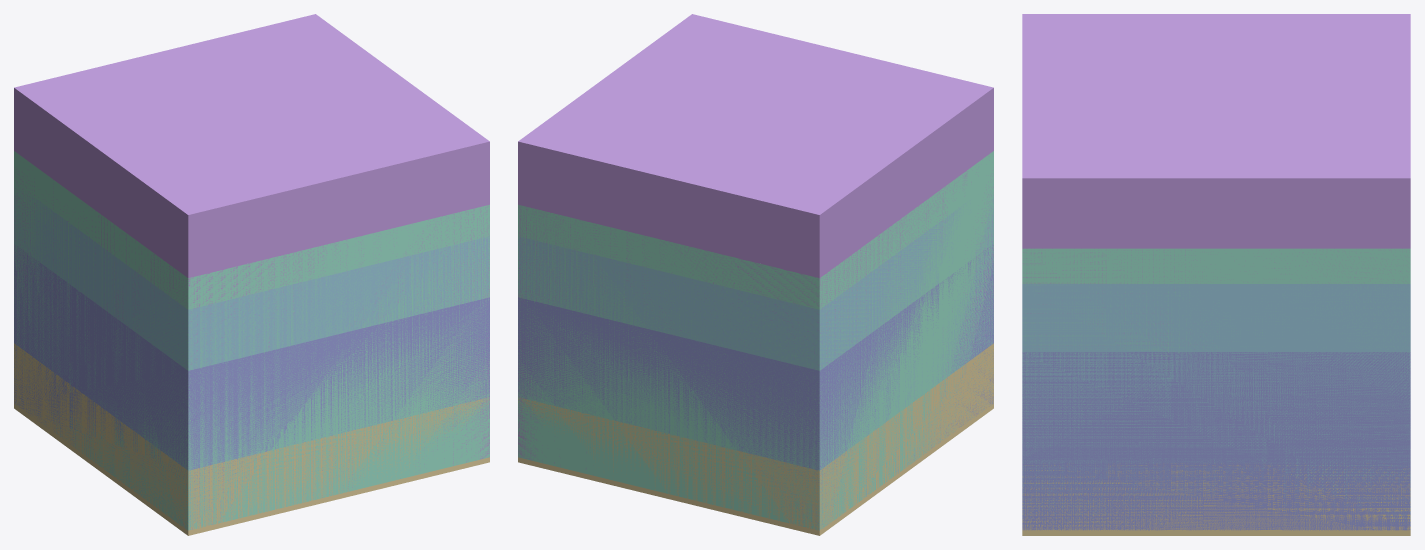
Rendered from hblock.glb.
The picture shows the model from 3 angles, left to right: view 1: azimuth 30°, elevation 25°; view 2: azimuth 150°, elevation 25°; view 3: azimuth 270°, elevation 25°; orthographic projection. The views are drawn at different scales.
Visible parts, largest first — view 1: S5|SM_HESCO_Stage5_01a#0, S4|SM_HESCO_Stage4_01a#0, S2|SM_HESCO_Stage2_01a#0, S3|SM_HESCO_Stage3_01a#0, S1|SM_HESCO_Stage1_01a#0; view 2: S4|SM_HESCO_Stage4_01a#0, S5|SM_HESCO_Stage5_01a#0, S3|SM_HESCO_Stage3_01a#0, S2|SM_HESCO_Stage2_01a#0, S1|SM_HESCO_Stage1_01a#0; view 3: S5|SM_HESCO_Stage5_01a#0, S2|SM_HESCO_Stage2_01a#0, S3|SM_HESCO_Stage3_01a#0, S4|SM_HESCO_Stage4_01a#0, S1|SM_HESCO_Stage1_01a#0.
Boxes of the visible parts, x1=… form: S5|SM_HESCO_Stage5_01a#0: x1=14, y1=14, x2=489, y2=523; S4|SM_HESCO_Stage4_01a#0: x1=14, y1=151, x2=489, y2=530; S2|SM_HESCO_Stage2_01a#0: x1=14, y1=244, x2=489, y2=497; S3|SM_HESCO_Stage3_01a#0: x1=14, y1=184, x2=489, y2=529; S1|SM_HESCO_Stage1_01a#0: x1=14, y1=343, x2=489, y2=535; S4|SM_HESCO_Stage4_01a#0: x1=518, y1=151, x2=993, y2=530; S5|SM_HESCO_Stage5_01a#0: x1=518, y1=14, x2=993, y2=503; S3|SM_HESCO_Stage3_01a#0: x1=518, y1=184, x2=993, y2=529; S2|SM_HESCO_Stage2_01a#0: x1=518, y1=244, x2=993, y2=484; S1|SM_HESCO_Stage1_01a#0: x1=518, y1=343, x2=993, y2=535; S5|SM_HESCO_Stage5_01a#0: x1=1022, y1=14, x2=1410, y2=495; S2|SM_HESCO_Stage2_01a#0: x1=1022, y1=352, x2=1410, y2=530; S3|SM_HESCO_Stage3_01a#0: x1=1022, y1=284, x2=1410, y2=529; S4|SM_HESCO_Stage4_01a#0: x1=1022, y1=248, x2=1410, y2=466; S1|SM_HESCO_Stage1_01a#0: x1=1022, y1=463, x2=1410, y2=535.
Bounding box in the file's own units: 1.5 × 1.52 × 1.5.
